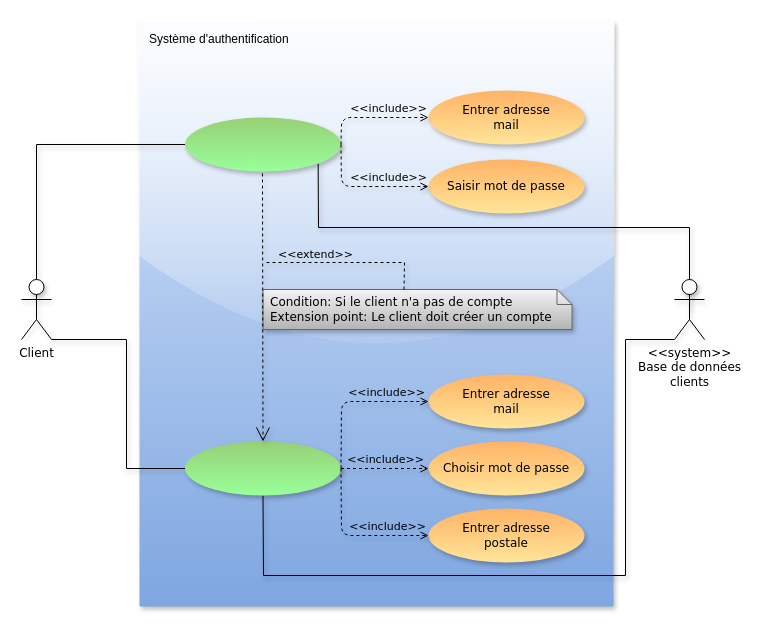
Some shapes in this 758 by 630 pixel diagram are drawn without their labels. The shapes that lost their labels are listed below. From the top down, each one's centre as x and y in pixels, then its label:
point (263, 145): S'authentifier
point (263, 469): Créer un compte
